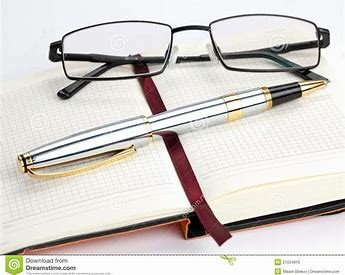pen: (15, 78, 332, 185)
